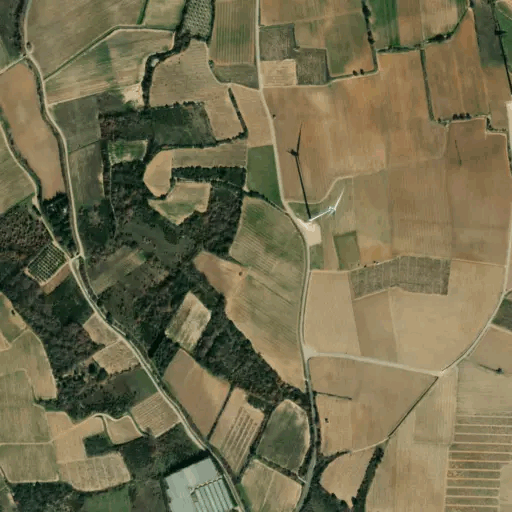wt: (284, 123, 342, 236)
